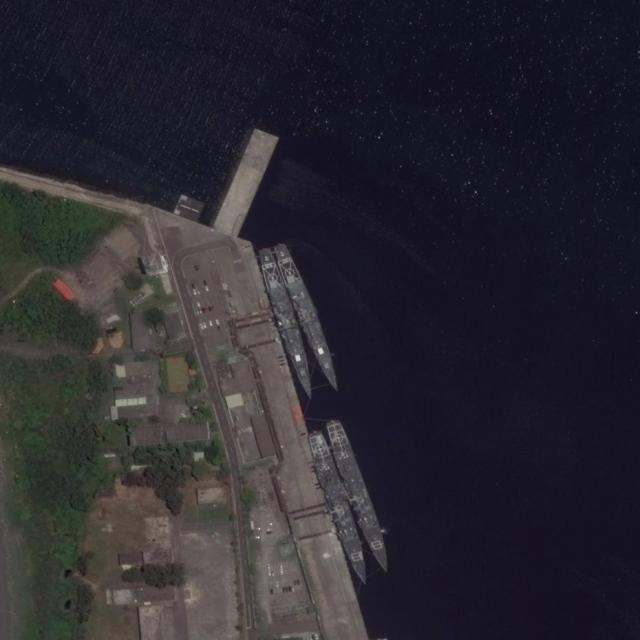Dock: (212, 127, 279, 240)
Frigate: (270, 240, 347, 397), (323, 417, 396, 577), (306, 429, 374, 588), (255, 246, 320, 405)
